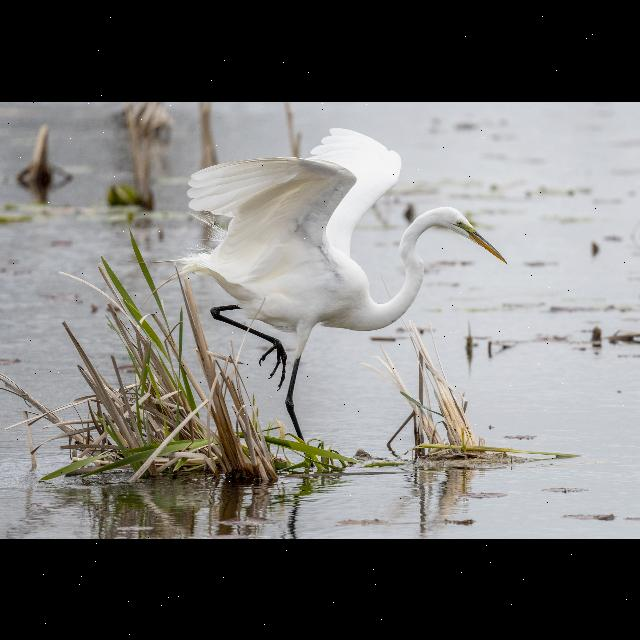egret: (161, 119, 507, 473)
